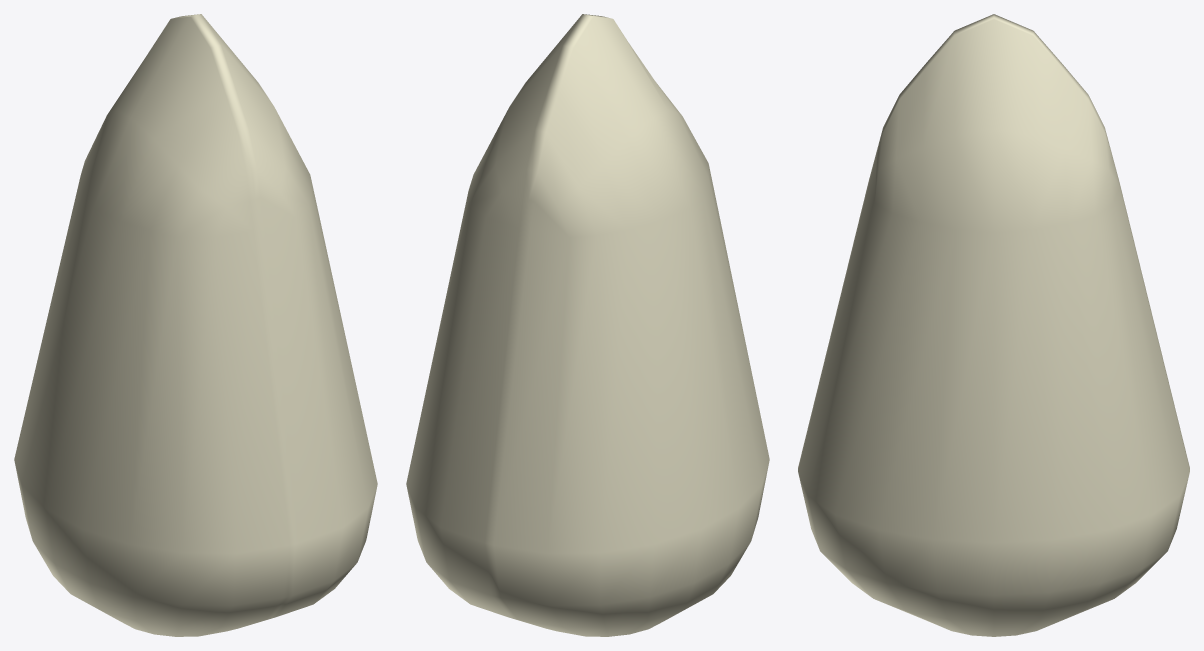
The model's file is Seed_Var1.fbx.
3 renders of one model, left to right at view 1: azimuth 30°, elevation 25°; view 2: azimuth 150°, elevation 25°; view 3: azimuth 270°, elevation 25°, orthographic.
Visible parts, largest first — view 1: Seed_Final; view 2: Seed_Final; view 3: Seed_Final.
Part boxes in pixels (<box>): Seed_Final: <box>14,14,377,636</box>; Seed_Final: <box>406,14,769,636</box>; Seed_Final: <box>798,14,1189,636</box>.
Size of the model in its own units: 2.87 by 5.48 by 3.26.
